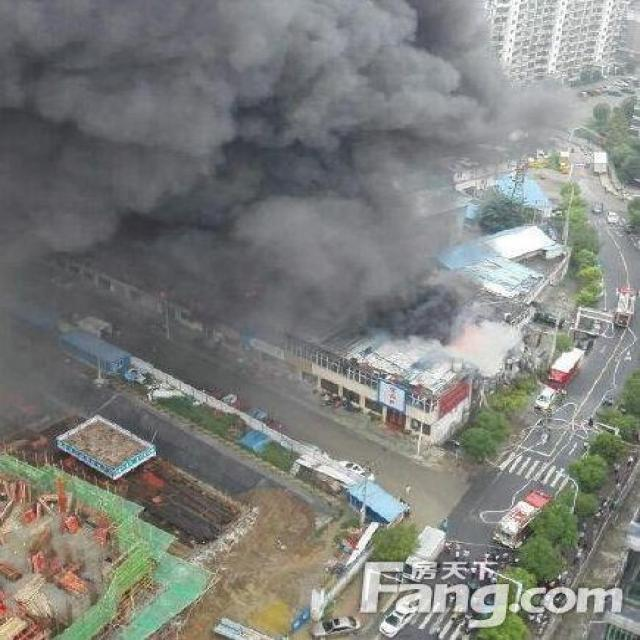Smoke: (7, 2, 588, 380)
